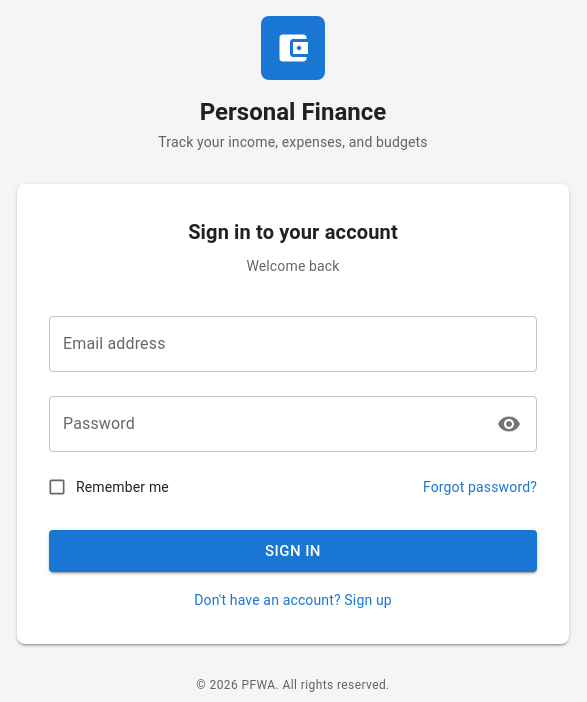
LoginPage › should show validation error for empty password
expect the button "Sign in" is shown: met, box top-left (49, 530), bottom-right (537, 572)
In the field labelled "Email address": (293, 344) top-left (49, 316), bottom-right (537, 372), type "user@example.com"
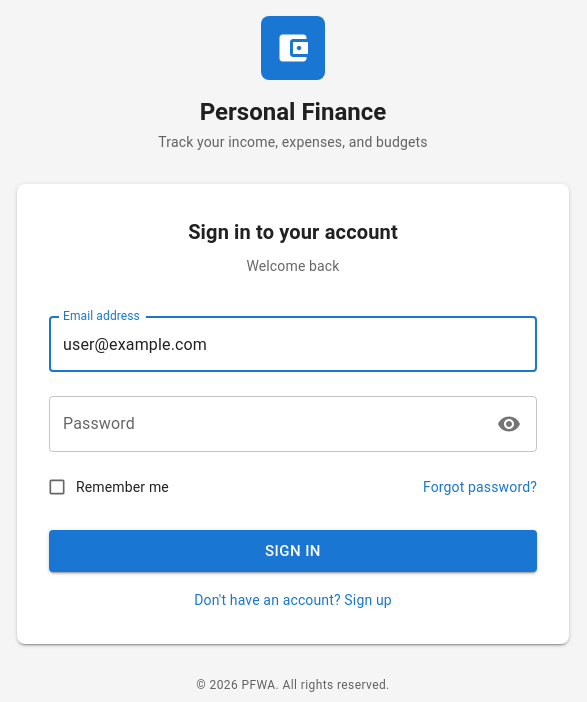
Click the button "Sign in": (293, 551) top-left (49, 530), bottom-right (537, 572)
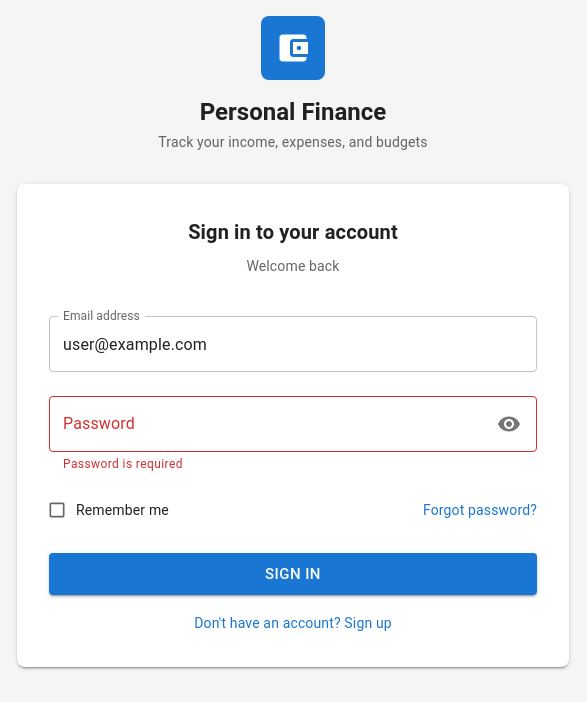
expect the text "Password is required" is shown: met, box top-left (63, 457), bottom-right (183, 471)
